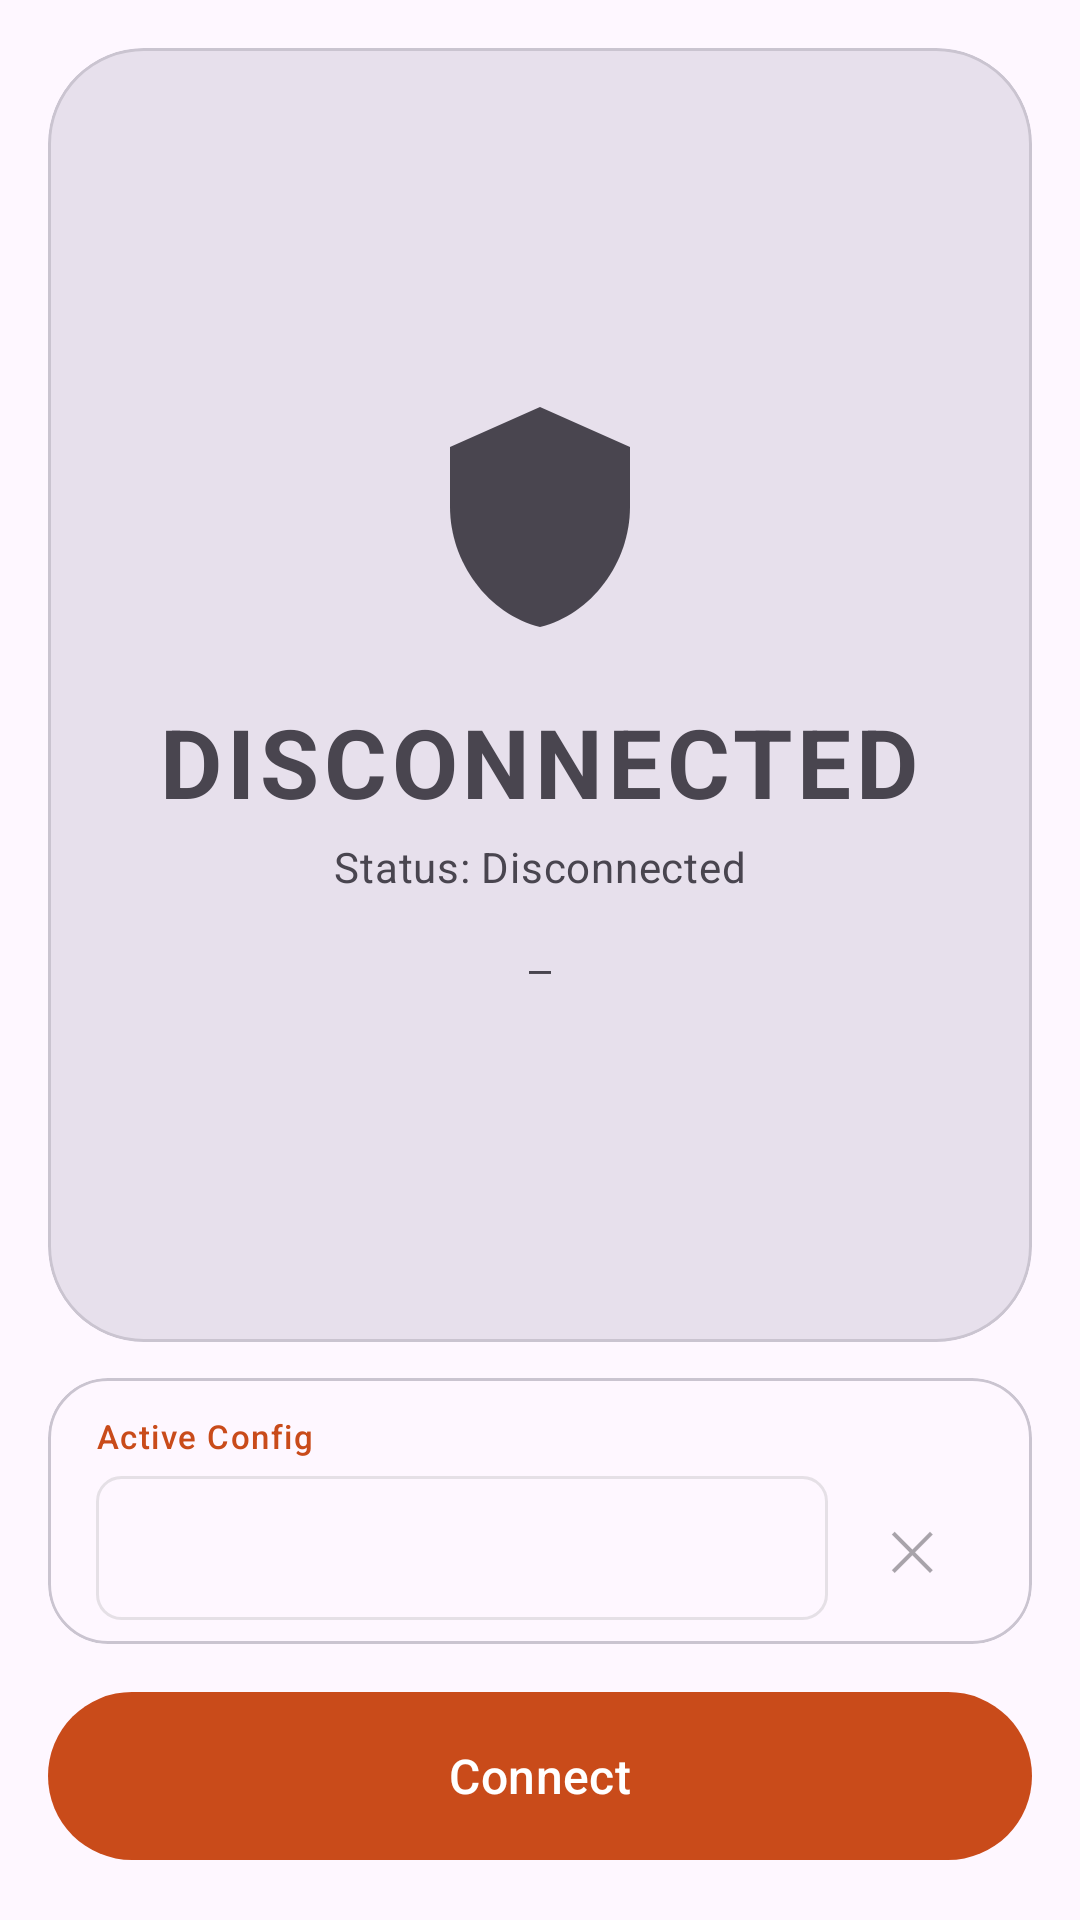

Icons on this 1080 x 1920 Android screen, each with its box as bbox(x1, y1, x2, y2):
VPN: bbox(450, 407, 630, 627)
